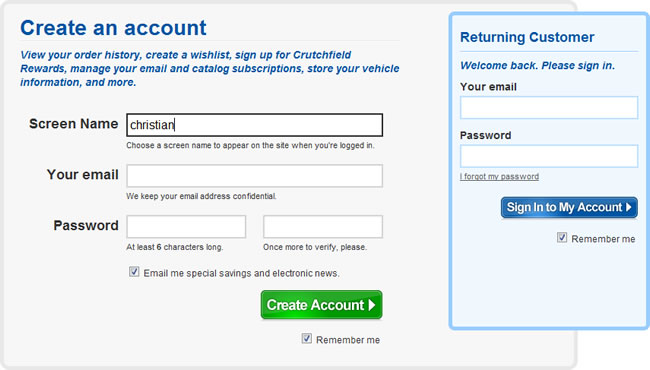_form_: (234, 1, 650, 370), (1, 1, 416, 370)
button: (261, 289, 382, 321), (500, 195, 638, 219)
checkbox: (127, 263, 140, 279), (556, 230, 568, 244), (301, 331, 312, 345)
checkbox_with_label: (124, 261, 337, 280), (298, 329, 382, 347), (554, 227, 638, 245)
field: (125, 112, 384, 138), (123, 163, 383, 187), (459, 141, 640, 168), (458, 94, 639, 120), (125, 213, 245, 239), (262, 214, 383, 237)
field_with_label: (28, 111, 385, 139), (48, 161, 386, 188), (456, 80, 641, 122), (456, 130, 644, 170), (53, 212, 247, 240)
